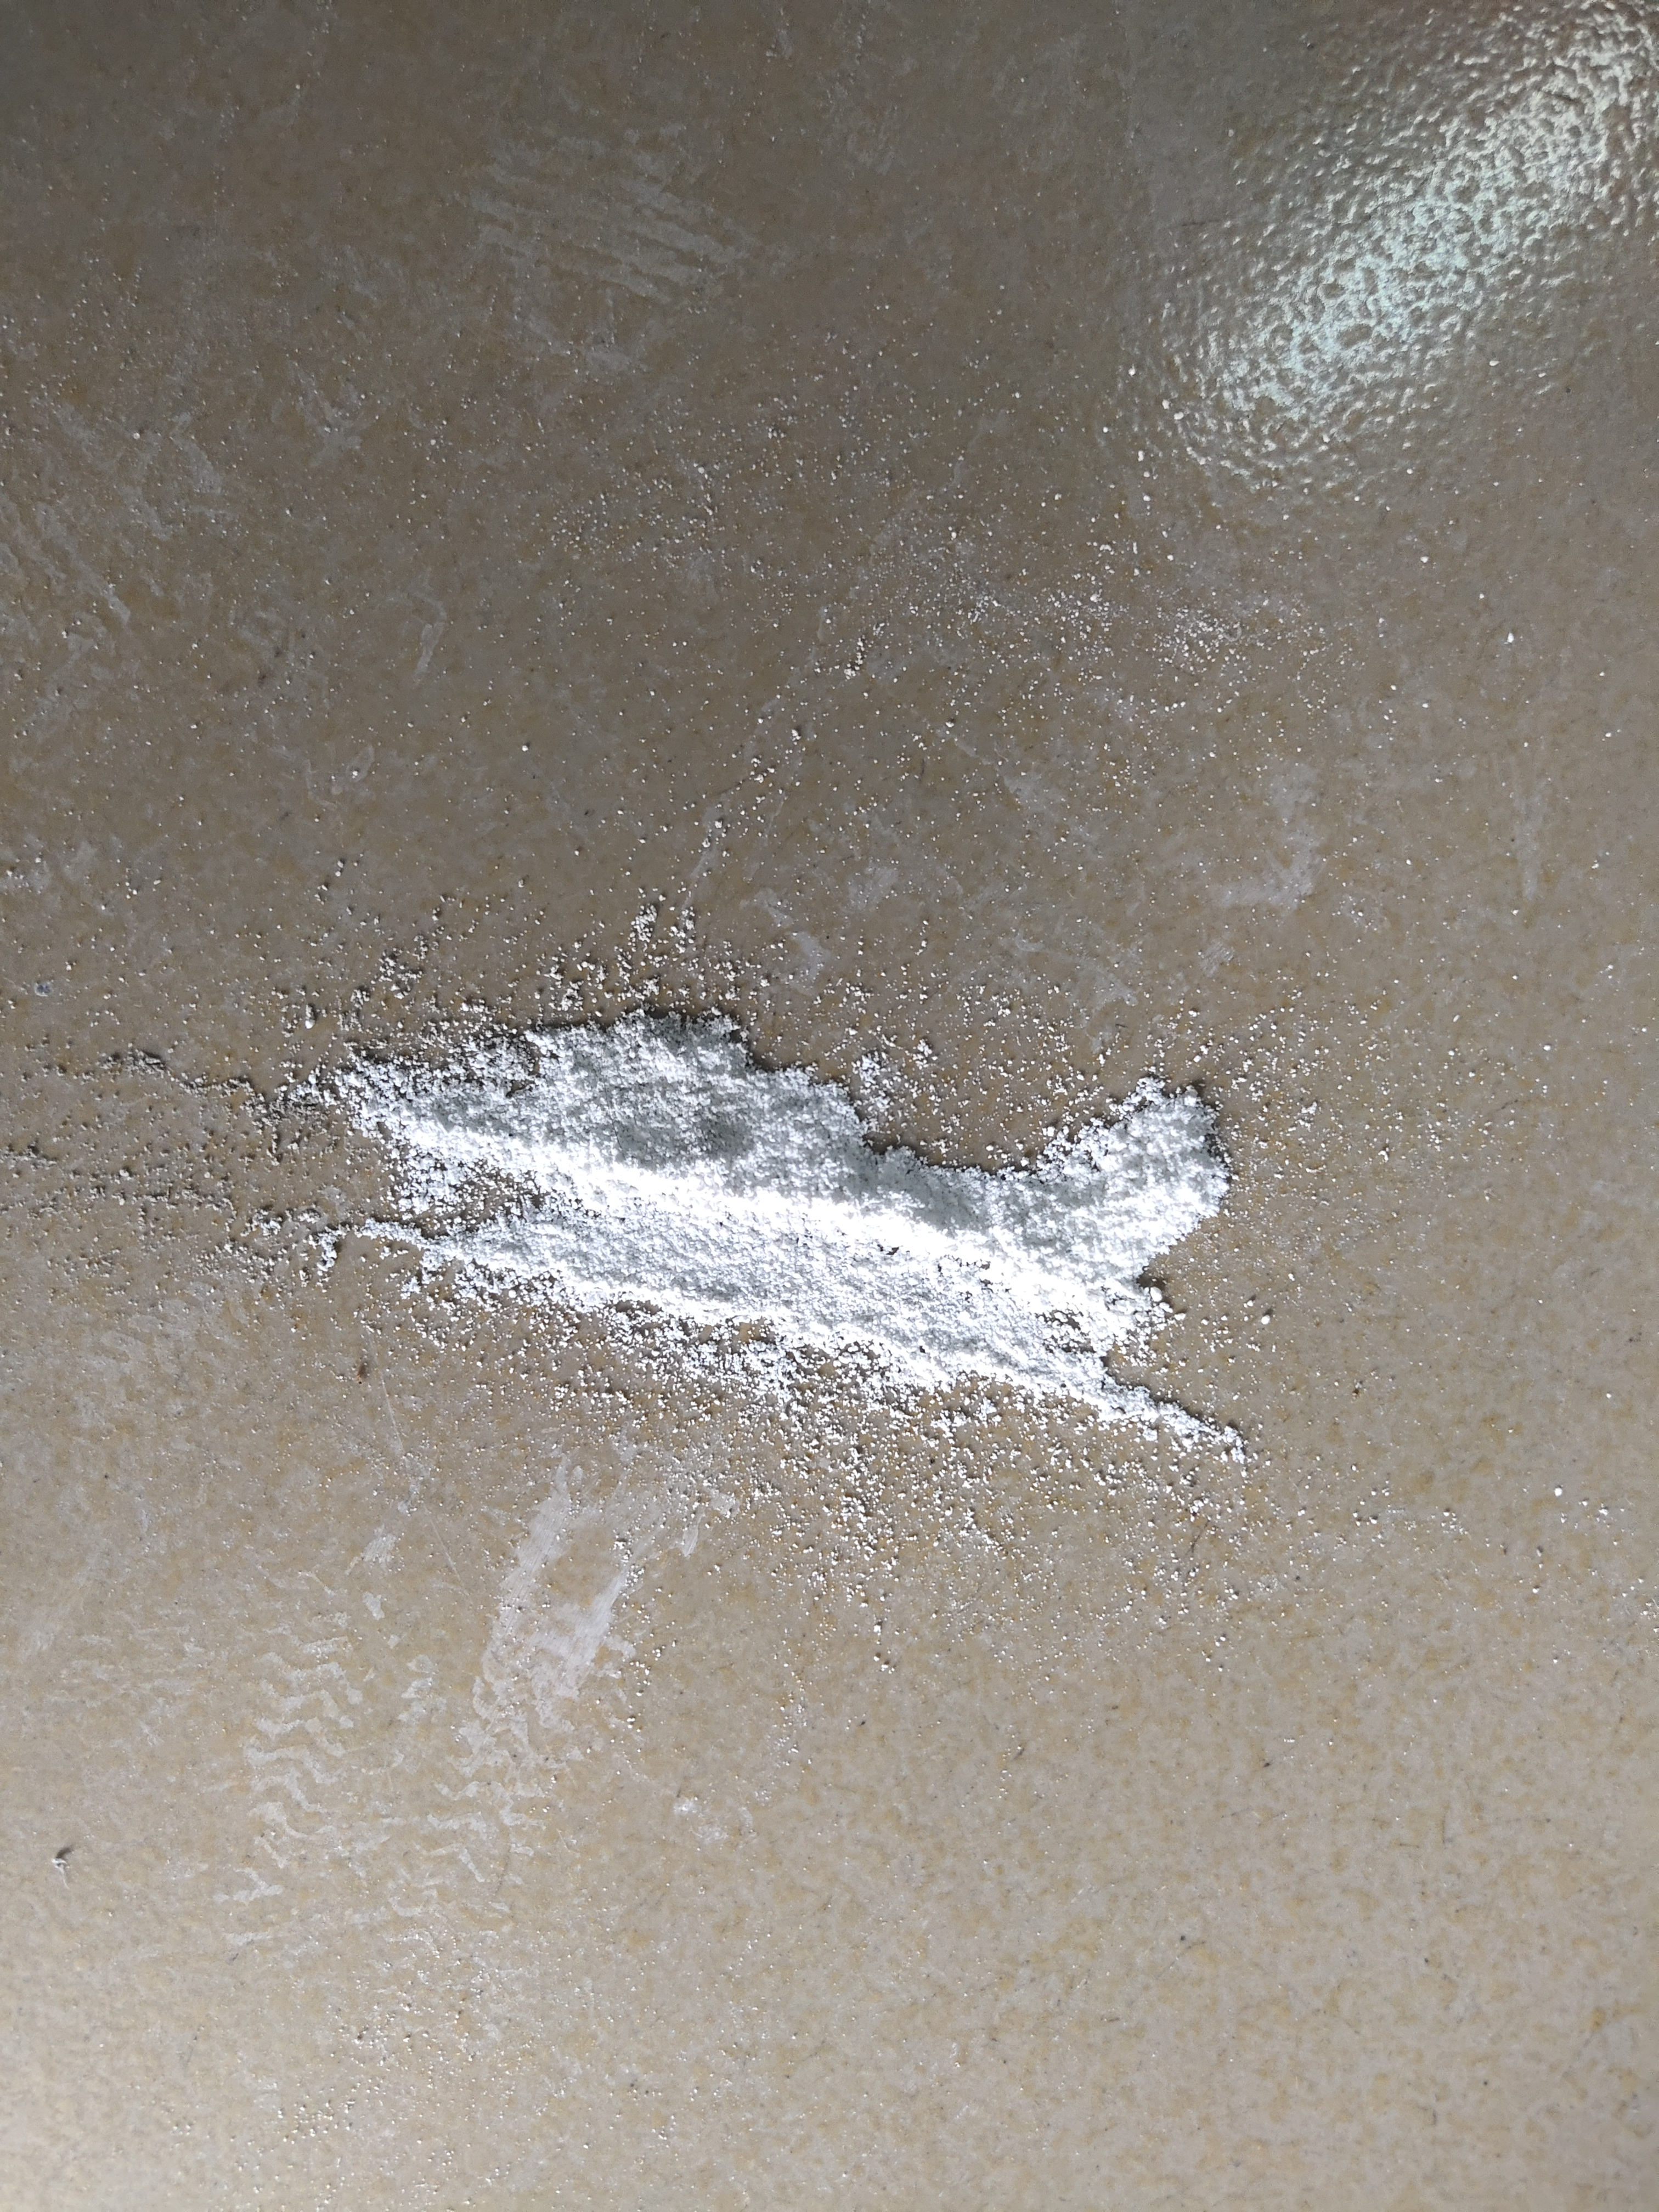ash pile: (279, 1005, 1246, 1467)
reflection: (1183, 3, 1659, 488)
